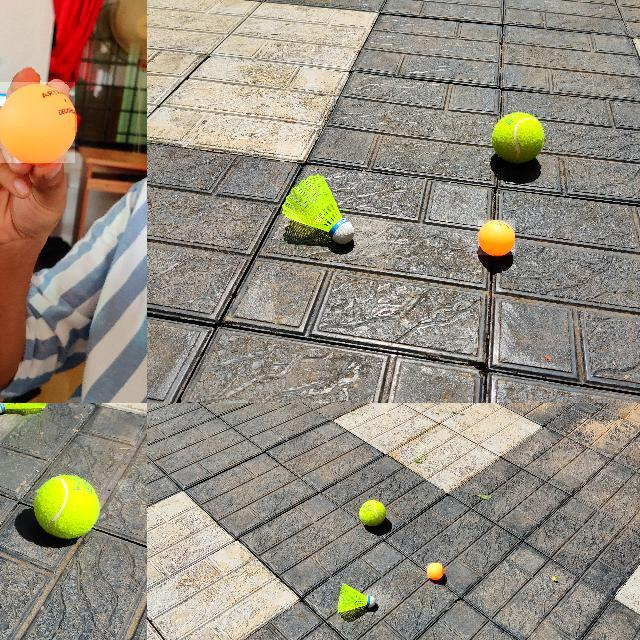ping-pong-ball: (0, 82, 77, 165), (478, 220, 516, 256), (427, 562, 443, 580)
